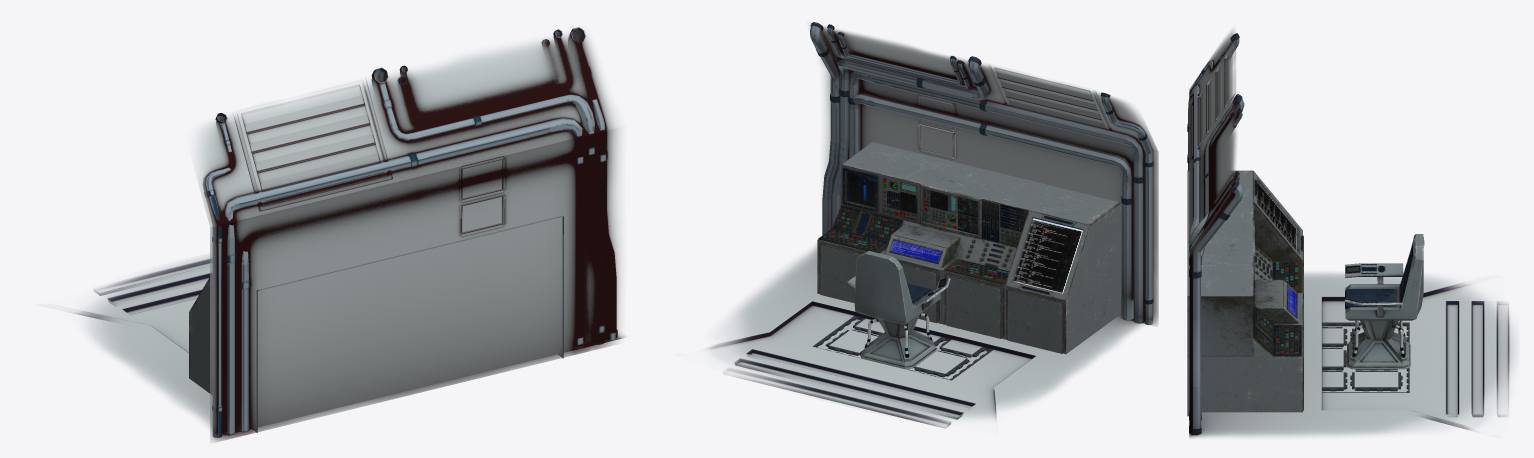
File: control_room.glb
3 views of the same model, side by side, from view 1: azimuth 30°, elevation 25°; view 2: azimuth 150°, elevation 25°; view 3: azimuth 270°, elevation 25° (orthographic). The views are drawn at different scales.
Parts seen in each view (by area): view 1: Object_2_dq, Object_4_dq; view 2: Object_2_dq, Object_5_dq, Object_4_dq, Object_3_dq, Object_6_dq; view 3: Object_2_dq, Object_4_dq, Object_5_dq, Object_3_dq, Object_6_dq.
Part boxes in pixels (bbox=[...]): Object_2_dq: bbox=[69, 27, 625, 442]; Object_4_dq: bbox=[189, 216, 563, 432]; Object_2_dq: bbox=[709, 22, 1158, 428]; Object_5_dq: bbox=[817, 142, 1120, 354]; Object_4_dq: bbox=[817, 167, 1120, 353]; Object_3_dq: bbox=[847, 251, 950, 369]; Object_6_dq: bbox=[813, 316, 993, 380]; Object_2_dq: bbox=[1187, 30, 1518, 438]; Object_4_dq: bbox=[1187, 171, 1302, 416]; Object_5_dq: bbox=[1187, 170, 1303, 410]; Object_3_dq: bbox=[1345, 234, 1424, 369]; Object_6_dq: bbox=[1322, 322, 1409, 392].
Size of the model in its own units: 617 by 436 by 502.
4 materials, 3 textured.
